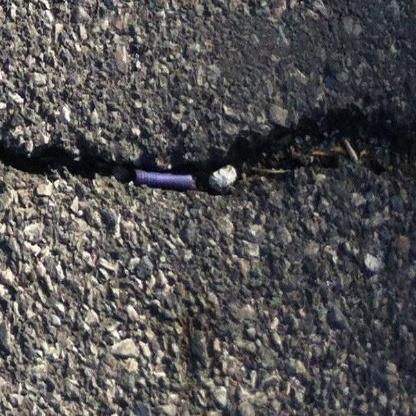Cracks: (157, 102, 416, 200), (0, 124, 140, 188)
